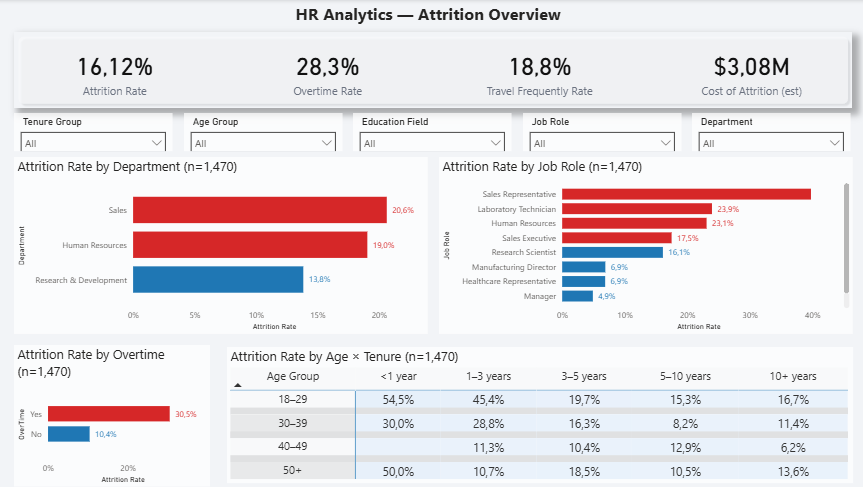

Layout of this report page (visuals, bound fields, positions):
{"tool":"powerbi","page":{"name":"Attrition Overview","canvas":[1280,720],"ordinal":0},"visuals":[{"type":"shape","box":[24,48,1232,112],"z":0},{"type":"card","fields":{"Values":["HRData.Attrition Rate"]},"box":[24,56,296,100],"z":1000},{"type":"card","fields":{"Values":["HRData.Travel Frequently Rate"]},"box":[648,56,296,100],"z":2000},{"type":"card","fields":{"Values":["HRData.Overtime Rate"]},"box":[336,56,296,100],"z":3000},{"type":"card","fields":{"Values":["HRData.Cost of Attrition (est)"]},"box":[960,56,296,100],"z":4000},{"type":"clusteredBarChart","fields":{"Category":["HRData.Department"],"Y":["HRData.Attrition Rate"]},"box":[24,232,608,260],"z":5000},{"type":"clusteredBarChart","fields":{"Category":["HRData.Job Role"],"Y":["HRData.Attrition Rate"]},"box":[648,232,608,260],"z":6000},{"type":"clusteredBarChart","fields":{"Category":["HRData.OverTime"],"Y":["HRData.Attrition Rate"]},"box":[24,508,288,208],"z":7000},{"type":"slicer","fields":{"Values":["HRData.Department"]},"box":[1020,168,233,56],"z":8000},{"type":"slicer","fields":{"Values":["HRData.Job Role"]},"box":[771,168,233,56],"z":9000},{"type":"slicer","fields":{"Values":["HRData.Education Field"]},"box":[522,168,233,56],"z":10000},{"type":"slicer","fields":{"Values":["HRData.Age Group"]},"box":[273,168,233,56],"z":11000},{"type":"slicer","fields":{"Values":["HRData.Tenure Group"]},"box":[24,168,233,56],"z":12000},{"type":"pivotTable","fields":{"Rows":["HRData.Age Group"],"Columns":["HRData.Tenure Group"],"Values":["HRData.Attrition Rate"]},"box":[336,512,920,200],"z":13000},{"type":"textbox","box":[16,0,1232,48],"z":14000}]}

Visuals, with their boxes in screenshot pixels (x1, y1, x2, y2), scaled from the page's 1280x720 canvas onto the 863x487 screenshot:
shape: 16/32/847/108
card - HRData.Attrition Rate: 16/38/216/106
card - HRData.Travel Frequently Rate: 437/38/636/106
card - HRData.Overtime Rate: 227/38/426/106
card - HRData.Cost of Attrition (est): 647/38/847/106
clusteredBarChart - HRData.Department x HRData.Attrition Rate: 16/157/426/333
clusteredBarChart - HRData.Job Role x HRData.Attrition Rate: 437/157/847/333
clusteredBarChart - HRData.OverTime x HRData.Attrition Rate: 16/344/210/484
slicer - HRData.Department: 688/114/845/152
slicer - HRData.Job Role: 520/114/677/152
slicer - HRData.Education Field: 352/114/509/152
slicer - HRData.Age Group: 184/114/341/152
slicer - HRData.Tenure Group: 16/114/173/152
pivotTable - HRData.Age Group x HRData.Tenure Group: 227/346/847/482
textbox: 11/0/841/32
